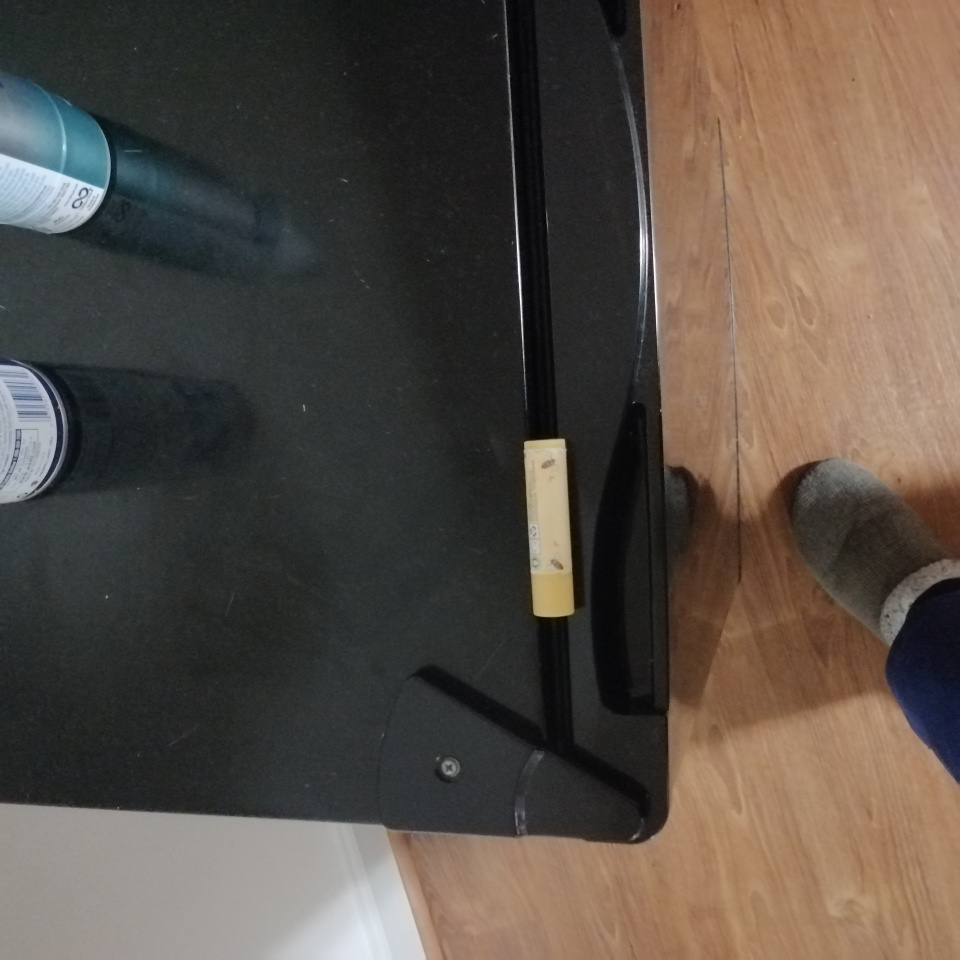chapstick: (521, 436, 579, 619)
